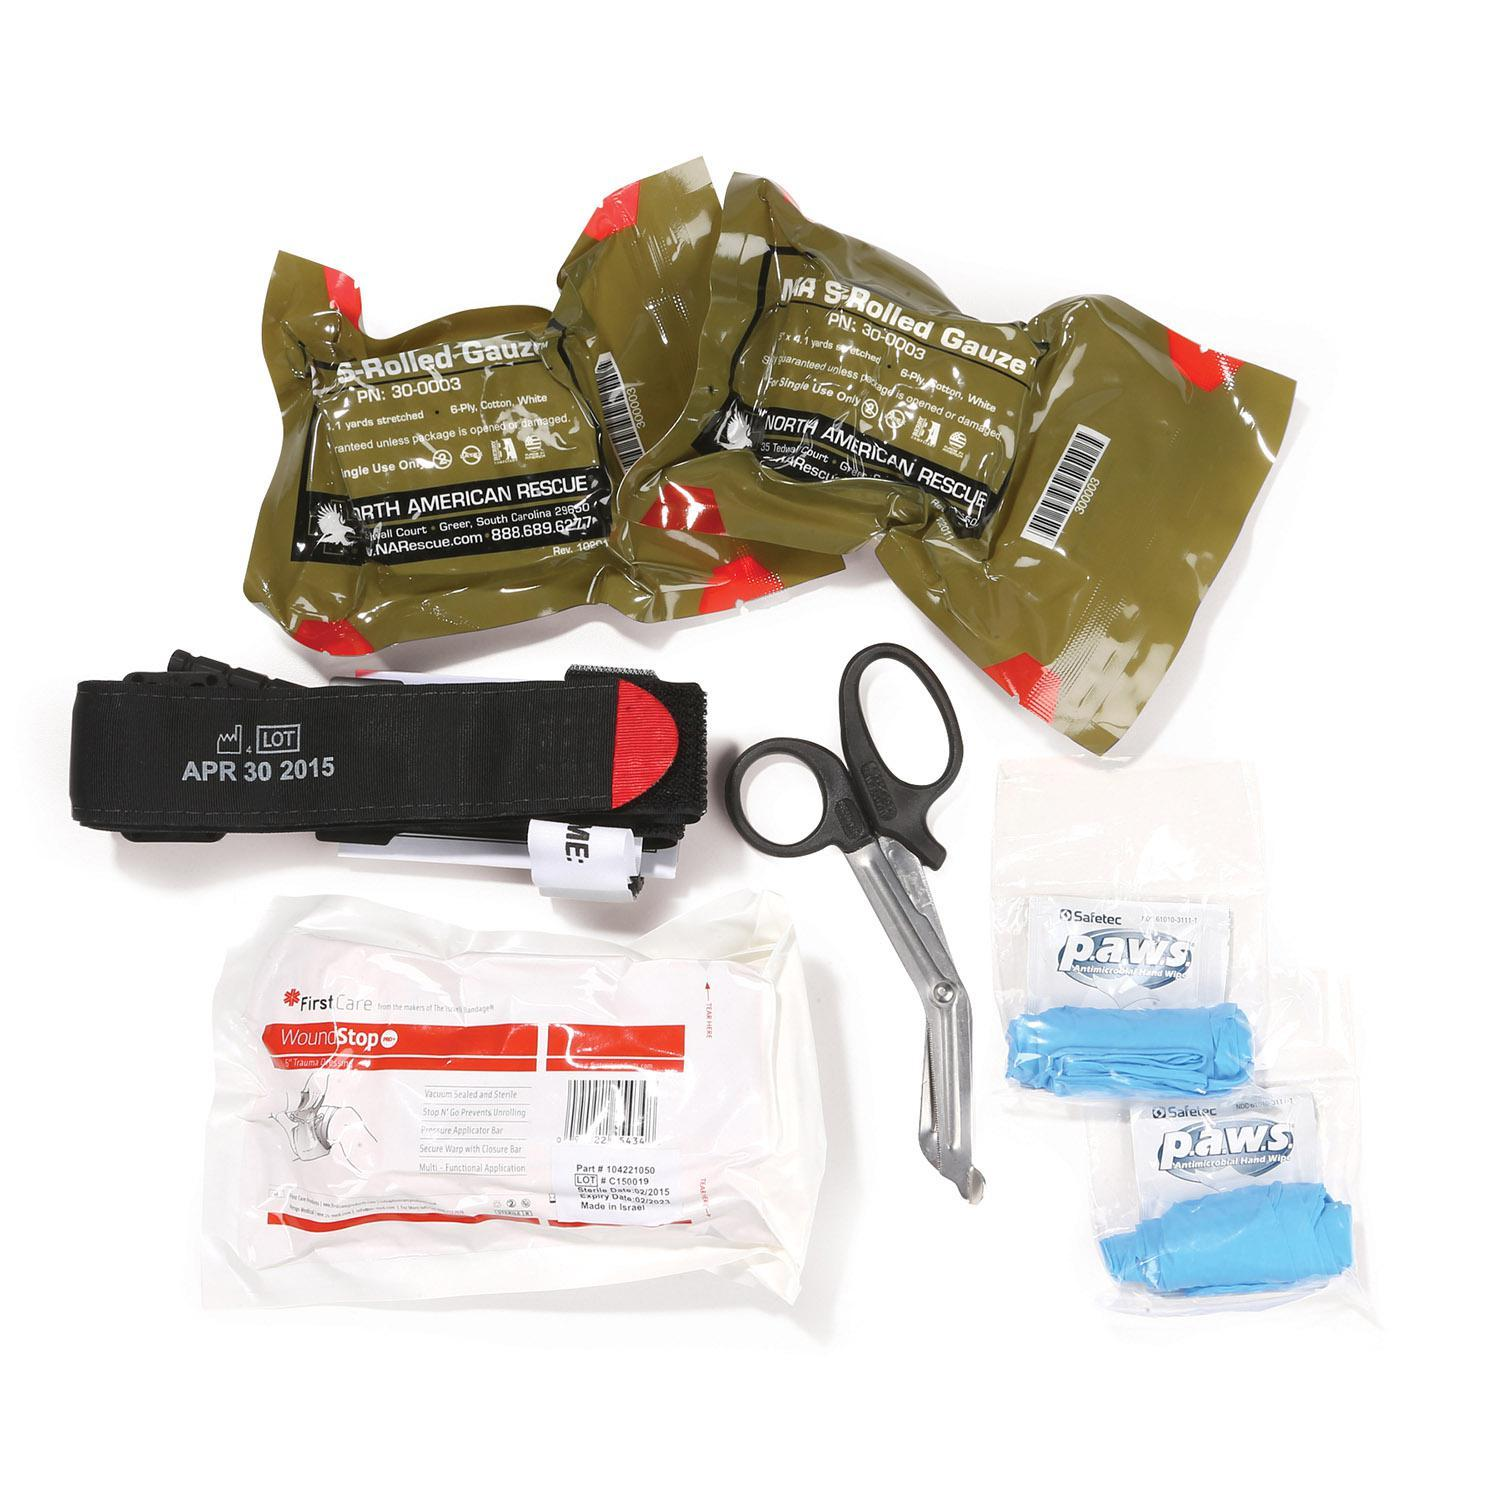scissors: (724, 640, 985, 1201)
